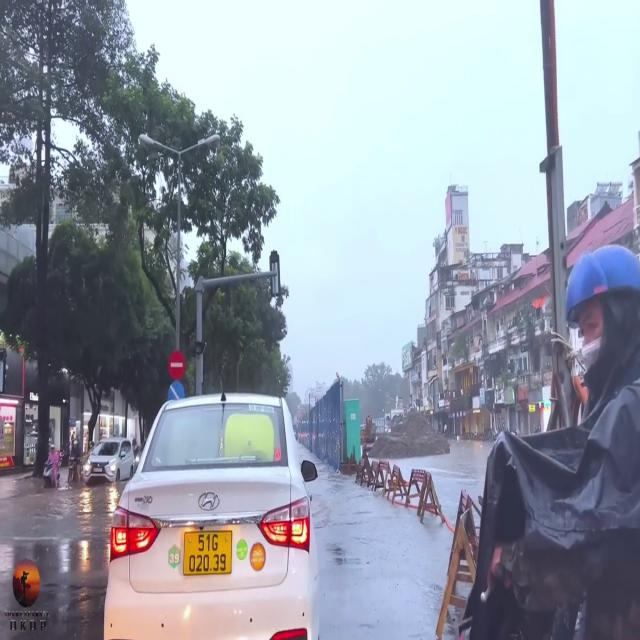bien_vang: (181, 528, 235, 579)
